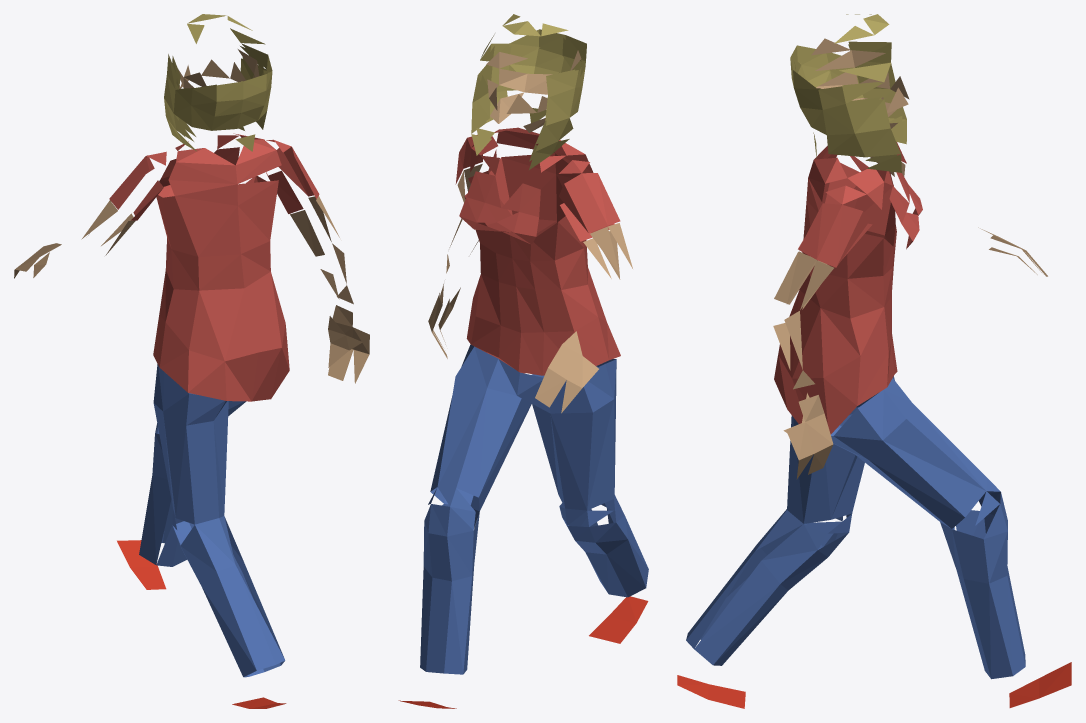
Rendered from personfar_6_w3.fbx.
3 renders of one model, left to right at view 1: azimuth 30°, elevation 25°; view 2: azimuth 150°, elevation 25°; view 3: azimuth 270°, elevation 25°, orthographic. The views are drawn at different scales.
Visible parts, largest first — view 1: Woman; view 2: Woman; view 3: Woman.
Boxes of the visible parts, bbox=[...] form: Woman: bbox=[14, 14, 369, 708]; Woman: bbox=[398, 14, 648, 708]; Woman: bbox=[677, 14, 1071, 708].
Size of the model in its own units: 0.4182 by 1 by 0.5165.
